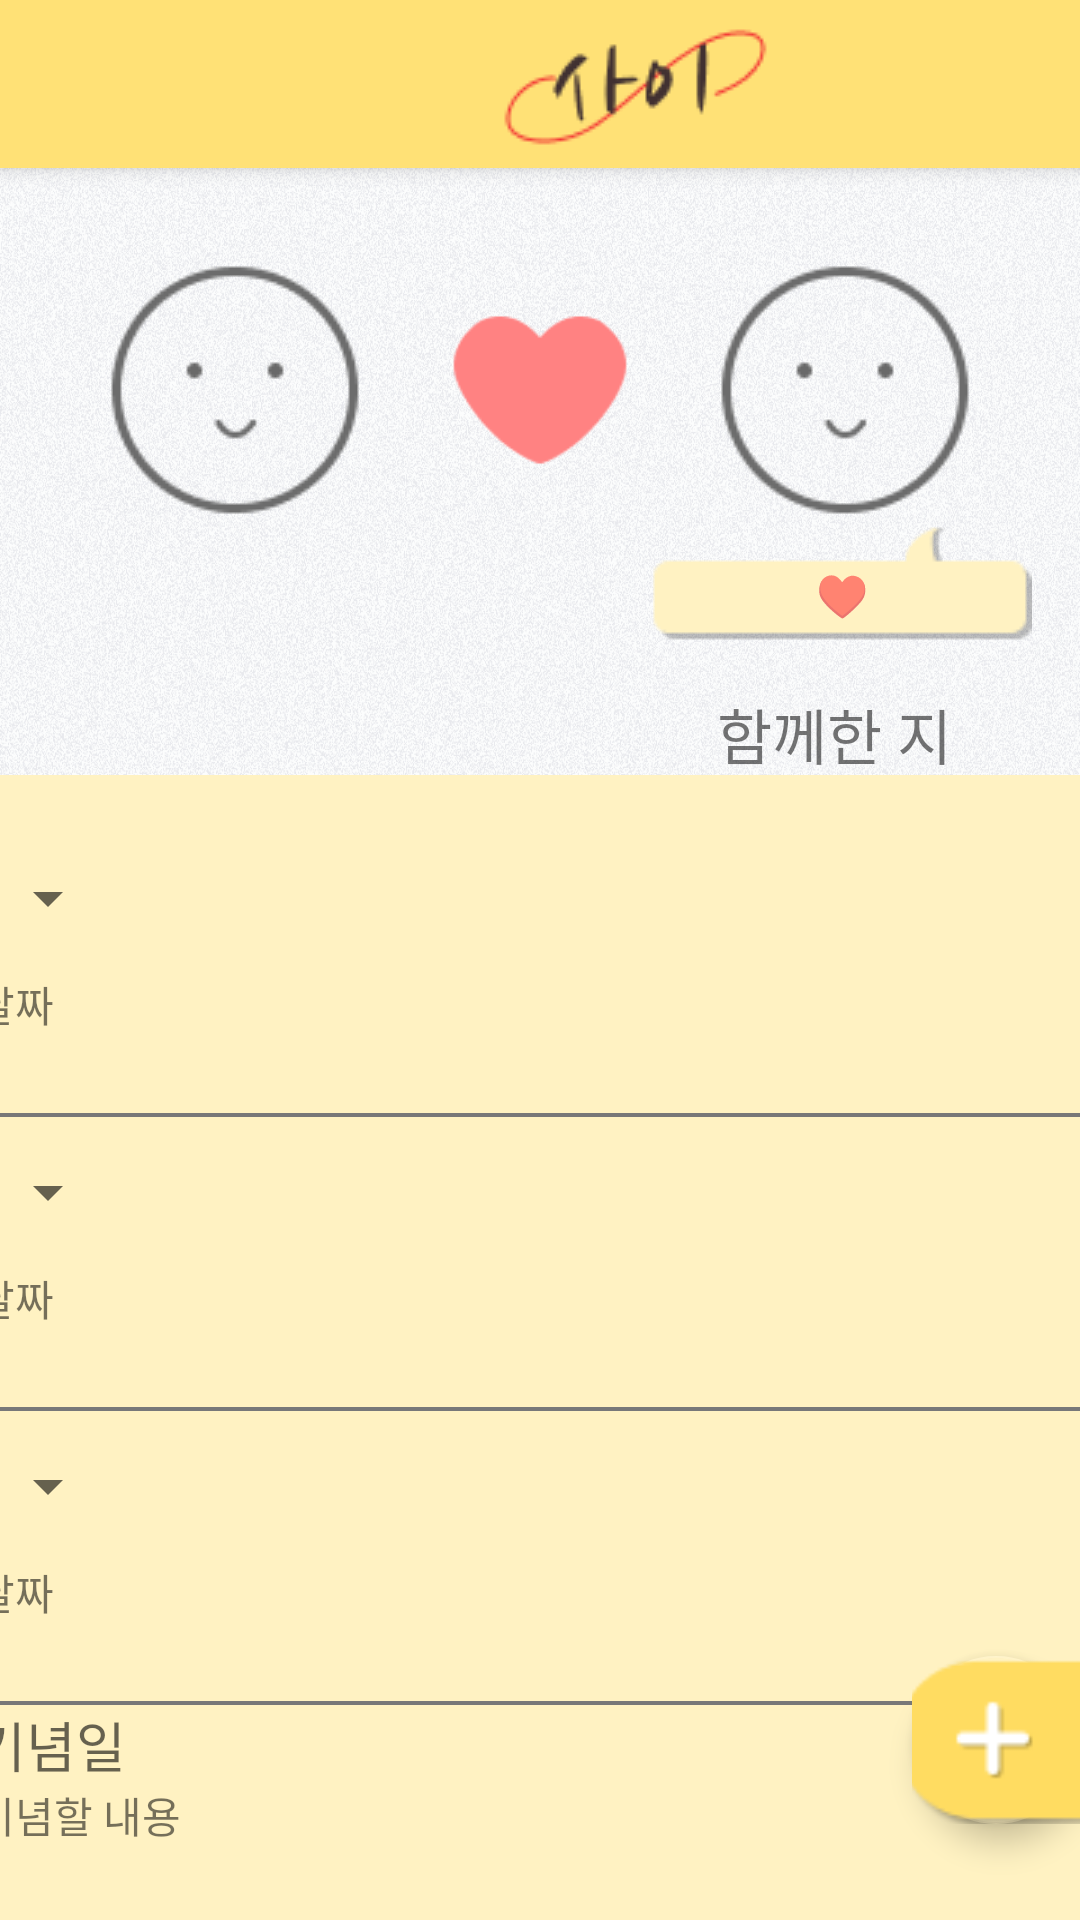

Icons on this 1080px×1920px Android screen, each with its box as Rect(x1, y1, x2, y2):
heart: Rect(453, 316, 627, 464)
plus: Rect(912, 1661, 1080, 1824)
smile: Rect(111, 266, 359, 514), Rect(721, 266, 969, 529)
